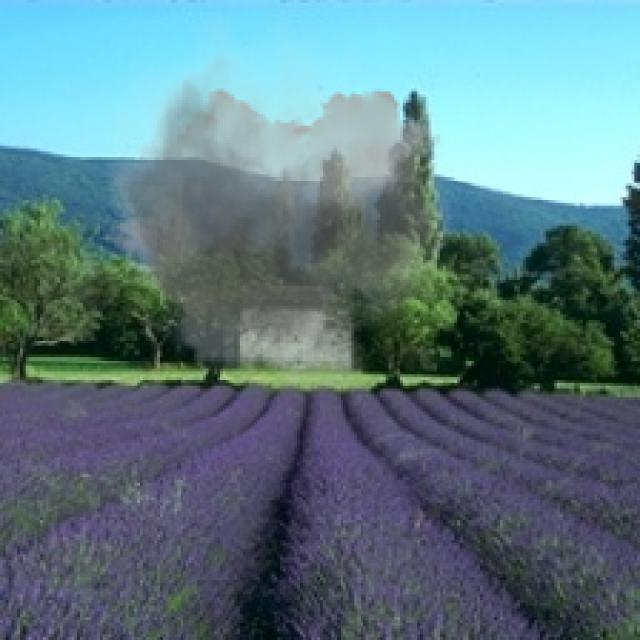Smoke: (92, 8, 454, 406)
